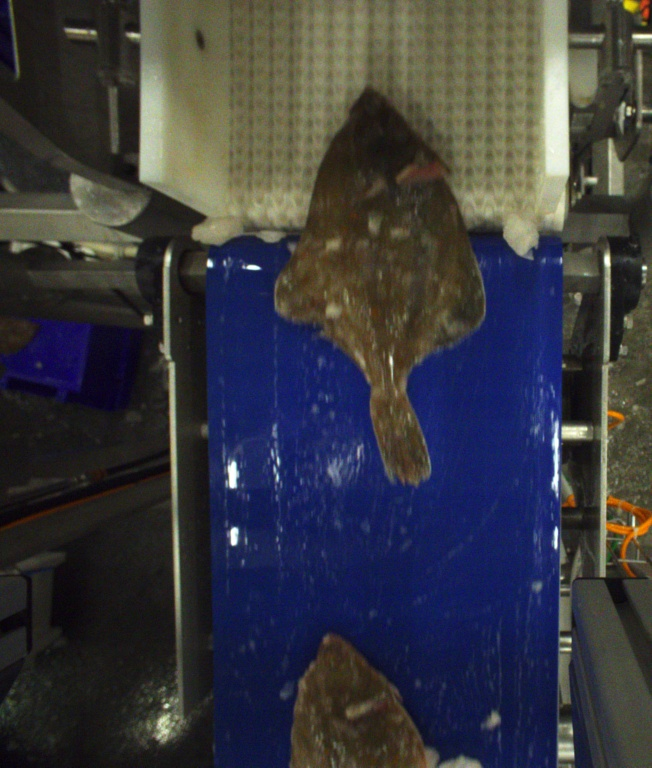PLE: (273, 84, 490, 485)
